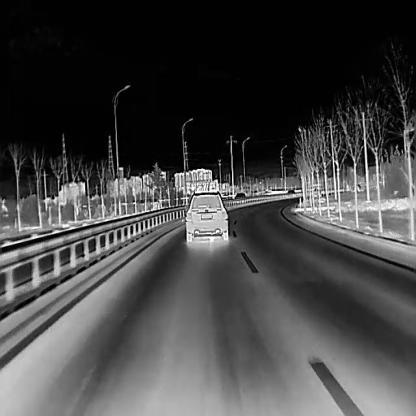car: (183, 190, 228, 241), (235, 190, 245, 202)
